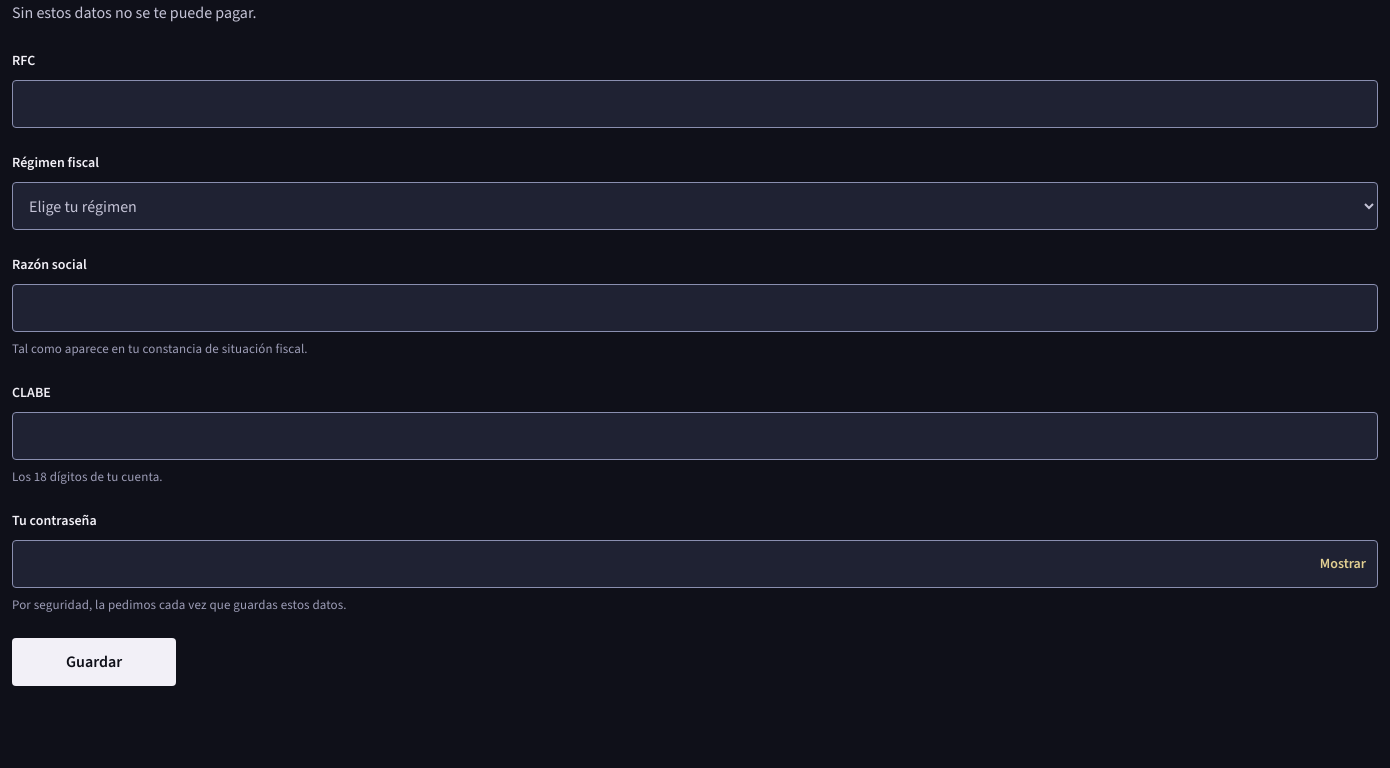
Test: capturar › con un error se dice el formato esperado en su campo; lo escrito se queda y la contraseña no
This screenshot has width=1390, height=768.
Type "GODE561231GR8" into the field labelled "RFC" at (695, 104), box [12,80,1378,128]
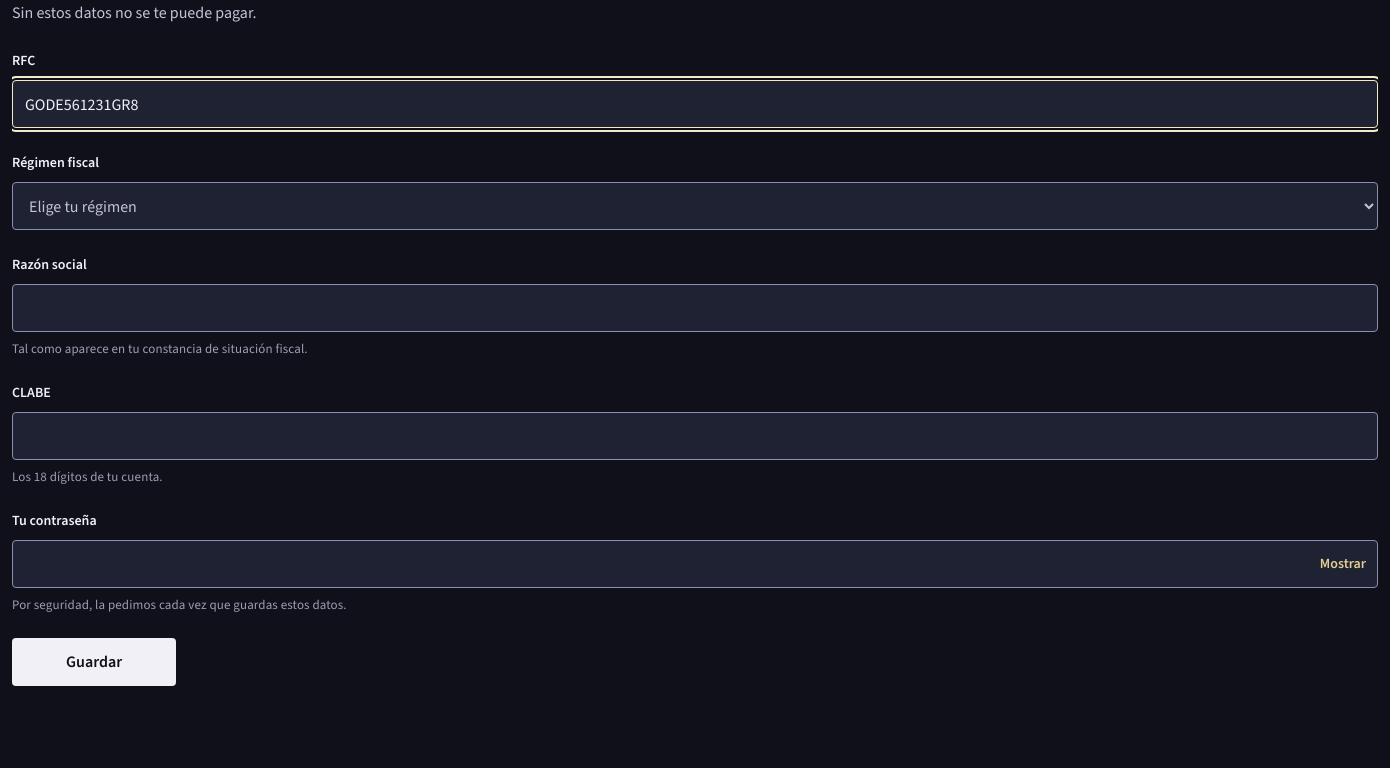
Select "601: General de Ley Personas Morales" in the dropdown labelled "Régimen fiscal" at (695, 206), box [12,182,1378,230]
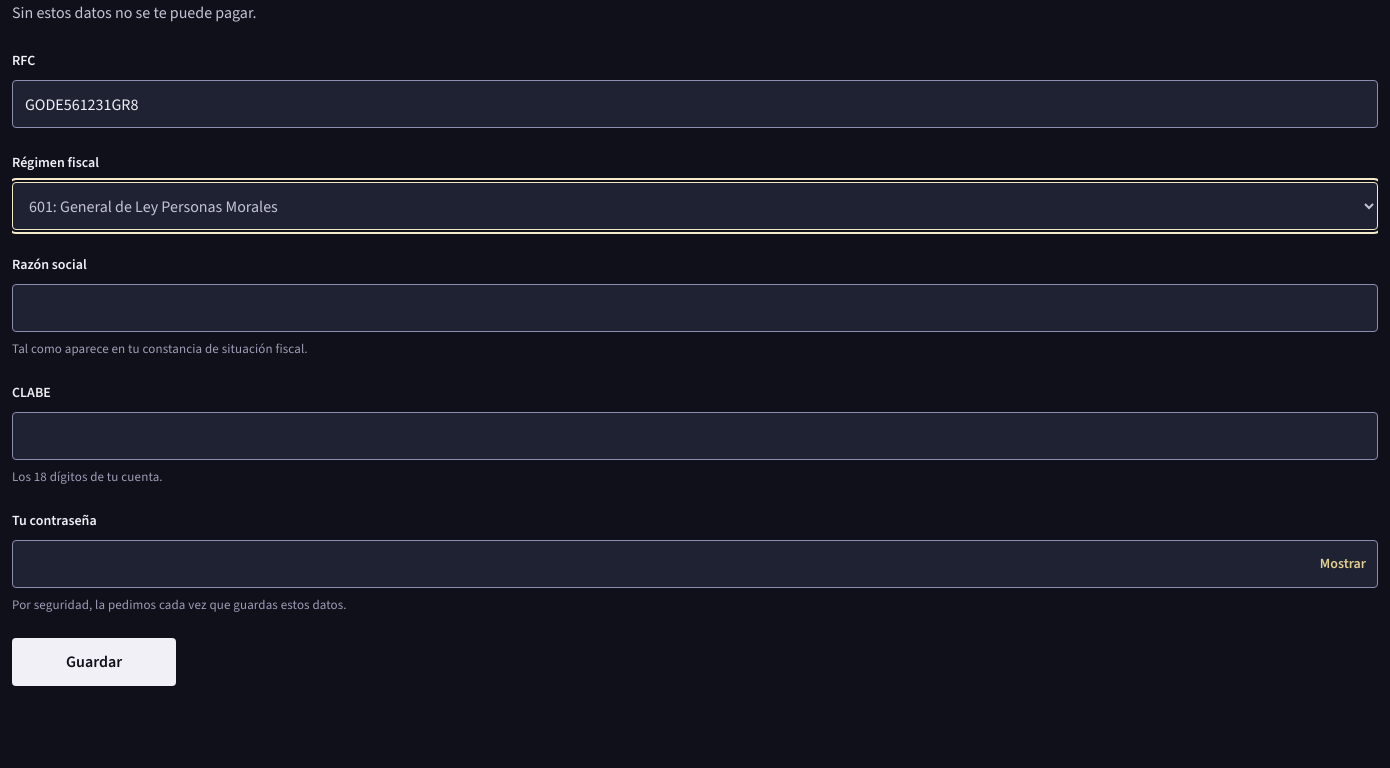
Type "Elena Gómez" into the field labelled "Razón social" at (695, 308), box [12,284,1378,332]
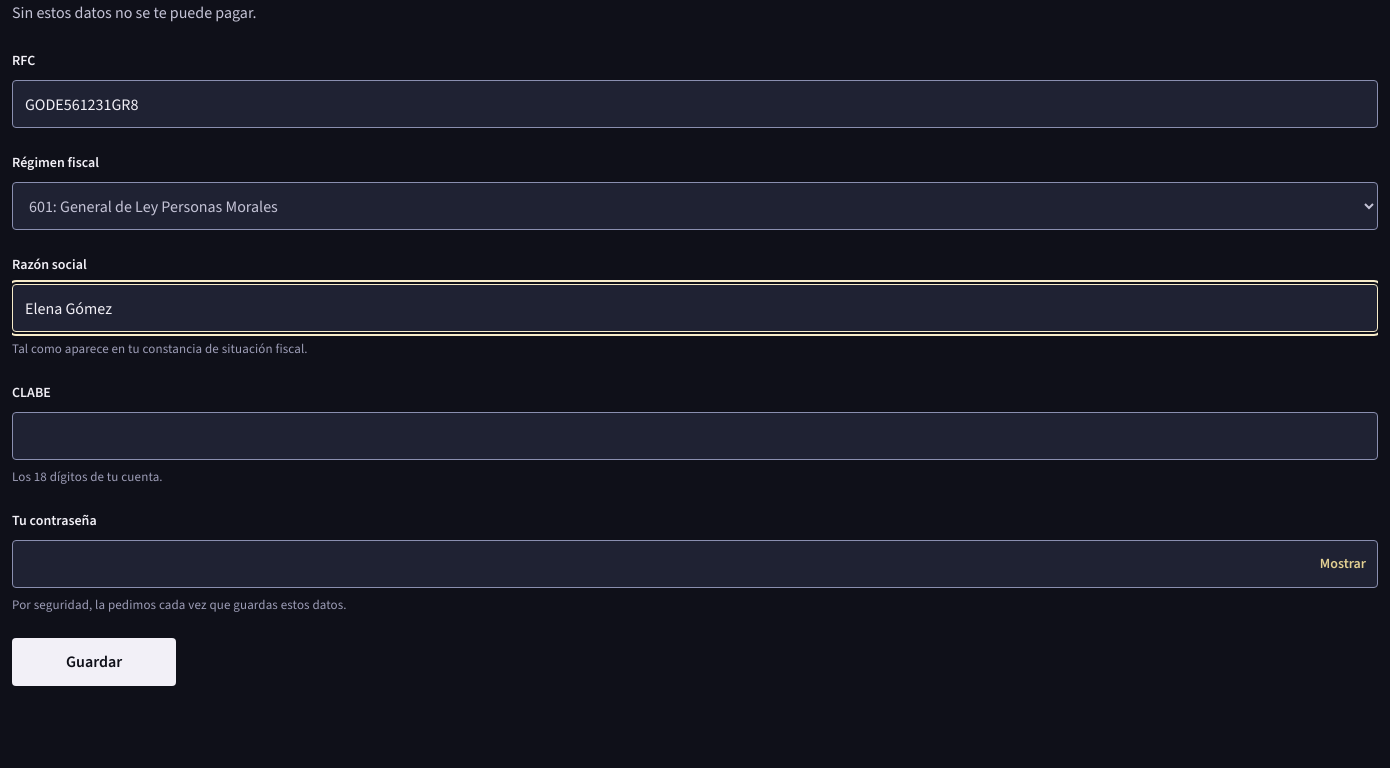
Type "123" into the field labelled "CLABE" at (695, 436), box [12,412,1378,460]
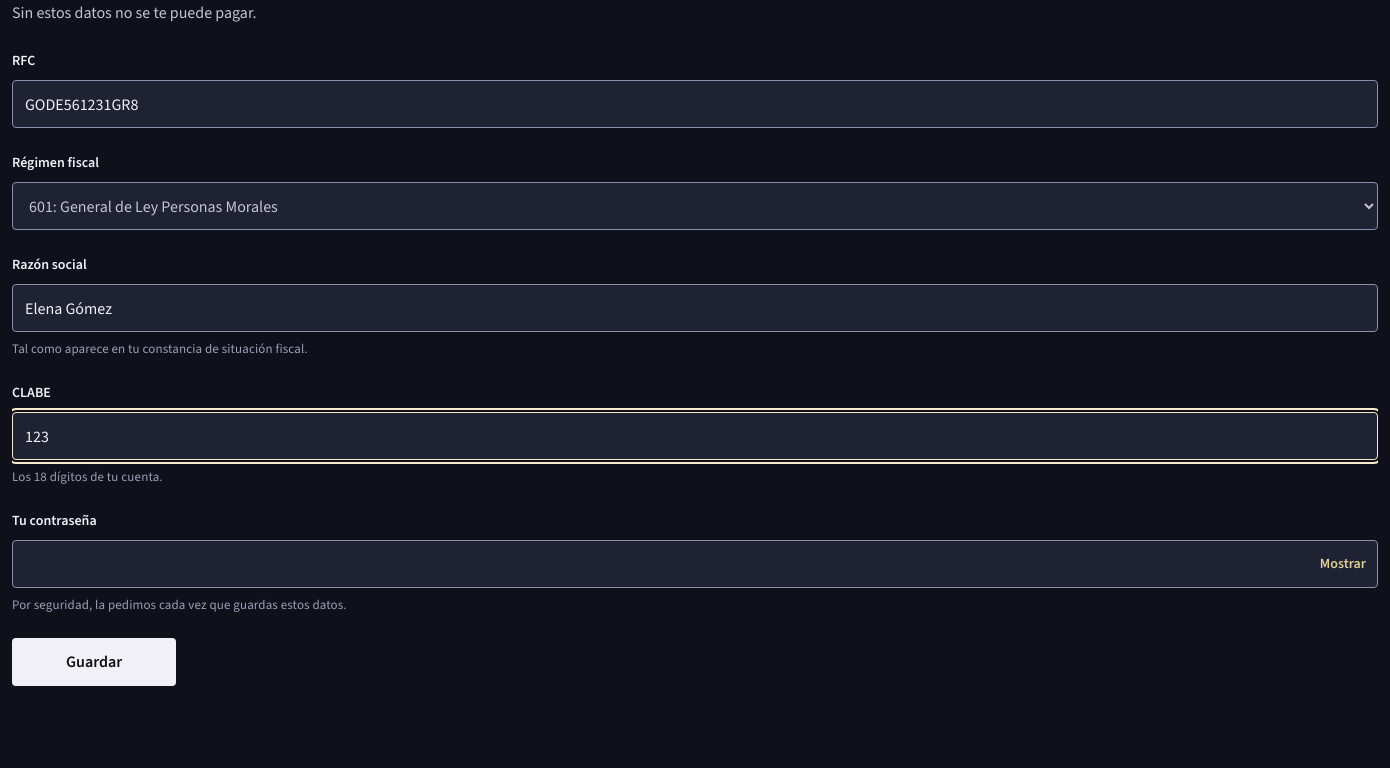
Type "la-de-ella" into the password field labelled "Tu contraseña" at (695, 564), box [12,540,1378,588]
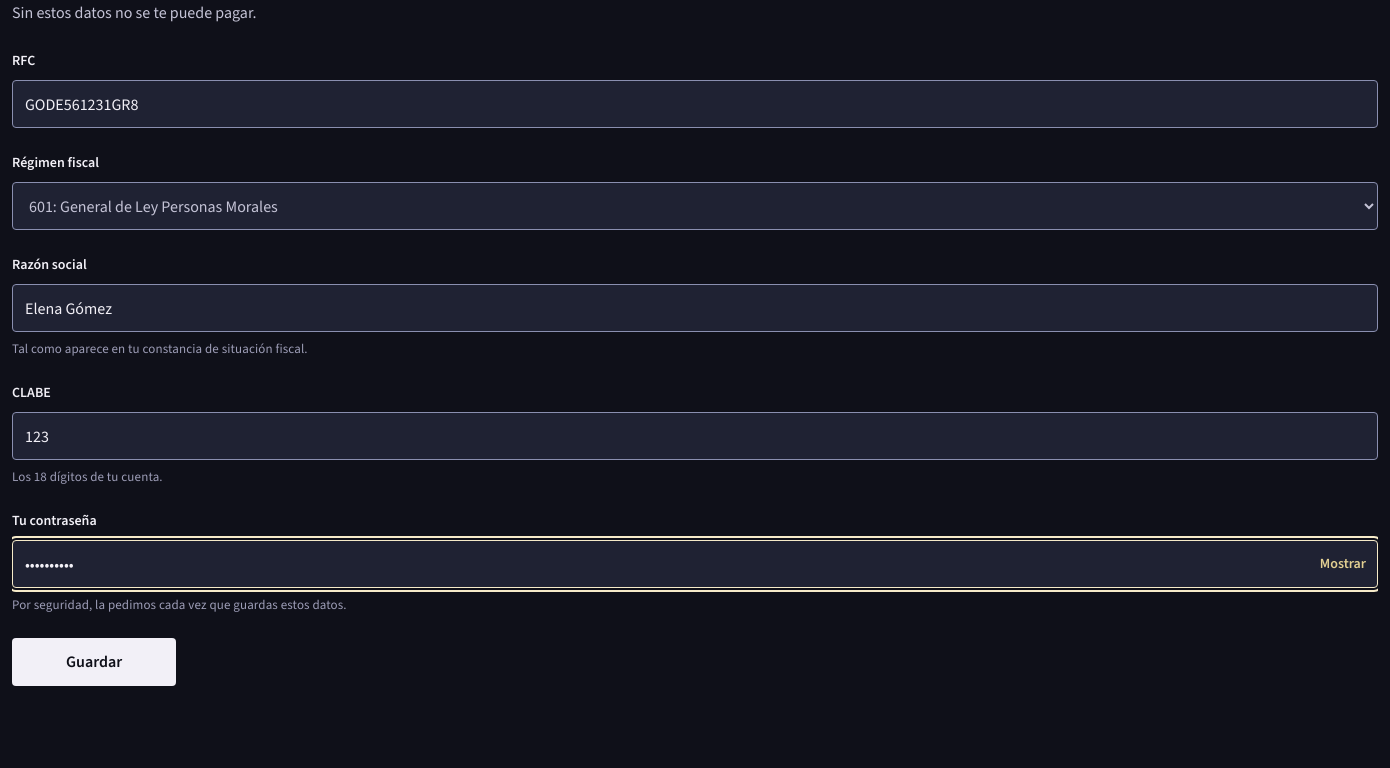
Click the button "Guardar" at (94, 662), box [12,638,176,686]
(page scrolled)
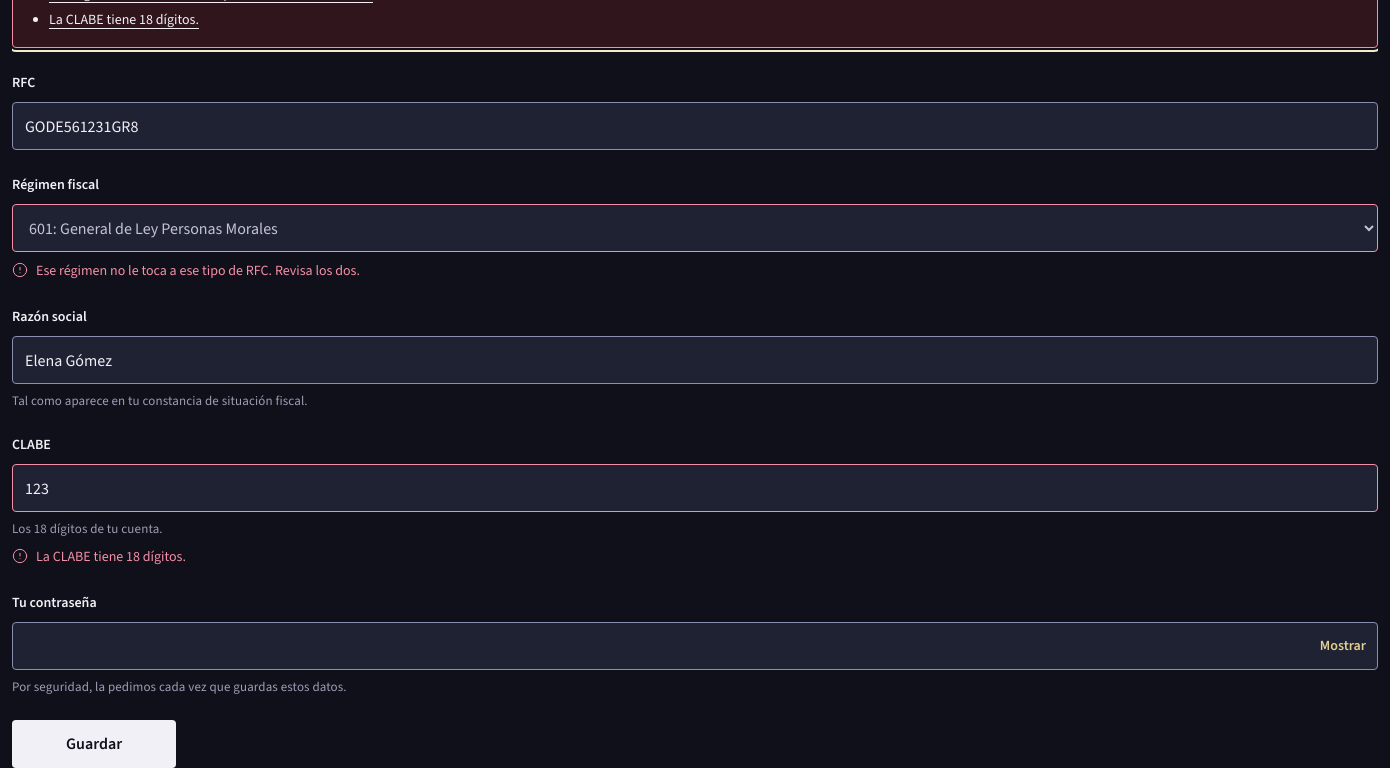
Result: the dropdown labelled "Régimen fiscal" shows "601: General de Ley Personas Morales" at [12,204,1378,252]
Result: the link "La CLABE tiene 18 dígitos." is shown at [49,10,199,29]
Result: the password field labelled "Tu contraseña" is empty at [12,622,1378,670]
